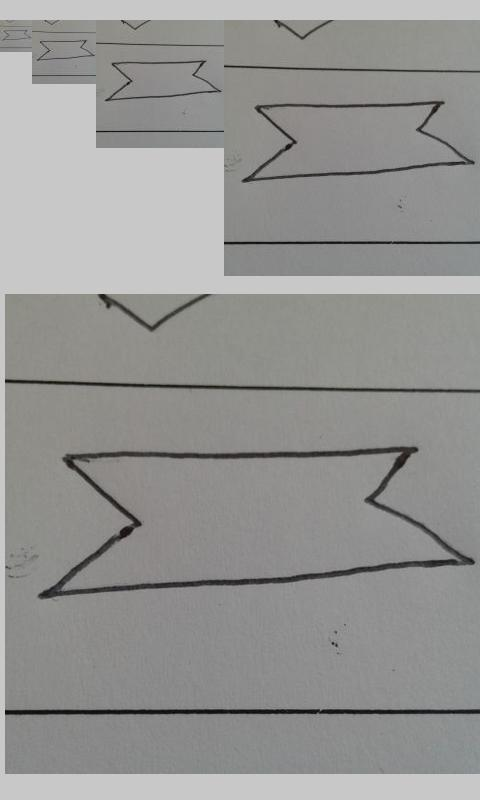edit_text: (40, 446, 478, 603), (241, 100, 473, 184), (105, 59, 219, 101), (37, 40, 94, 61), (3, 29, 30, 41)
